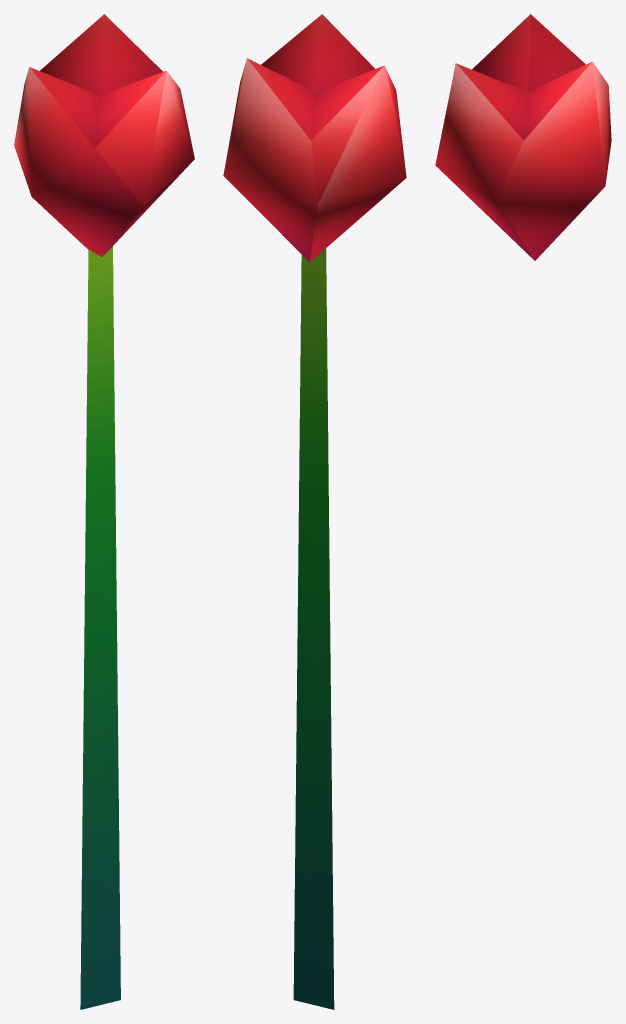
Rendered from Flower_1A.fbx.
3 renders of one model, left to right at view 1: azimuth 30°, elevation 25°; view 2: azimuth 150°, elevation 25°; view 3: azimuth 270°, elevation 25°, orthographic.
Visible parts, largest first — view 1: Flower_1A; view 2: Flower_1A; view 3: Flower_1A.
Part boxes in pixels (x1,y1,x2,y2): Flower_1A: (14,14,194,1009); Flower_1A: (223,14,406,1009); Flower_1A: (435,14,611,260).
Bounding box in the file's own units: 0.15 × 0.868 × 0.1451.
